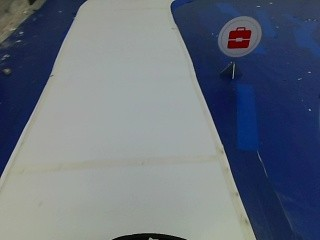company: (217, 13, 261, 57)
